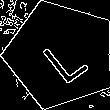L_NW: (32, 25, 89, 84)
